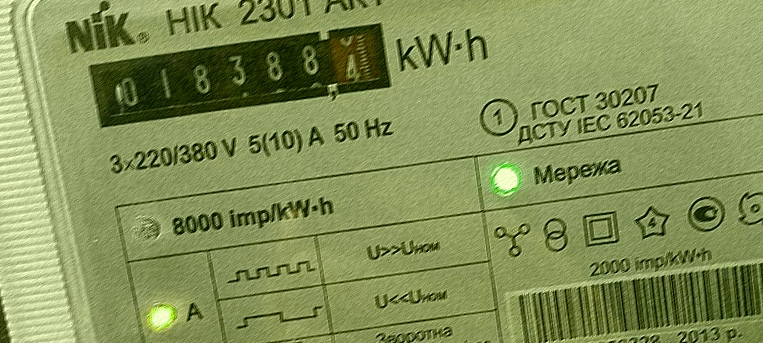0: (116, 72, 140, 110)
1: (153, 62, 175, 101)
3: (225, 51, 249, 88)
4: (339, 49, 362, 84)
8: (188, 59, 213, 97), (296, 40, 321, 78), (261, 48, 285, 85)
screen: (77, 11, 404, 140)
